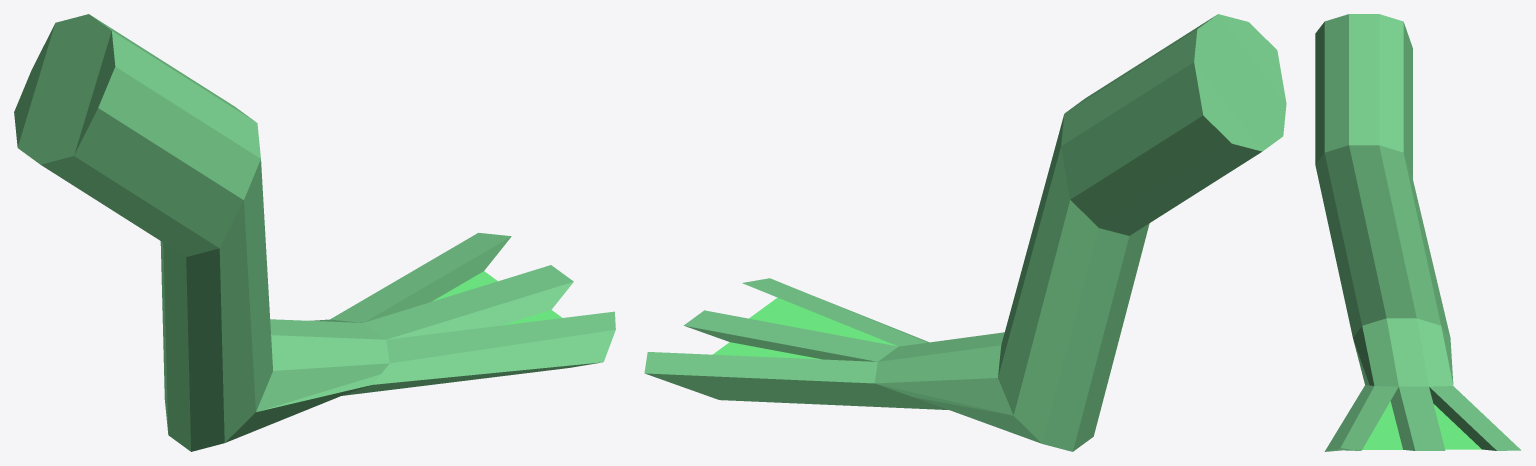
Rendered from FrogLeg.fbx.
3 views of the same model, side by side, from view 1: azimuth 30°, elevation 25°; view 2: azimuth 150°, elevation 25°; view 3: azimuth 270°, elevation 25° (orthographic). The views are drawn at different scales.
Parts seen in each view (by area): view 1: ForgLeg; view 2: ForgLeg; view 3: ForgLeg.
Boxes of the visible parts, x1,y1,x2,y2 form: ForgLeg: (14,14,615,451); ForgLeg: (644,14,1286,451); ForgLeg: (1315,14,1521,451).
Bounding box in the file's own units: 480 × 368 × 223.
